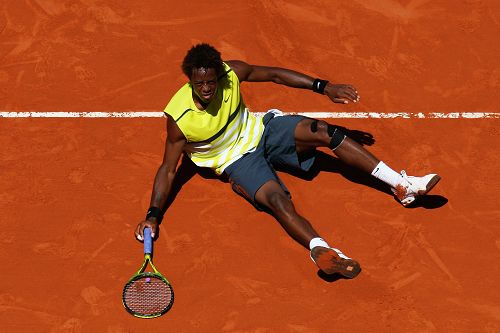fall: (130, 42, 464, 260)
